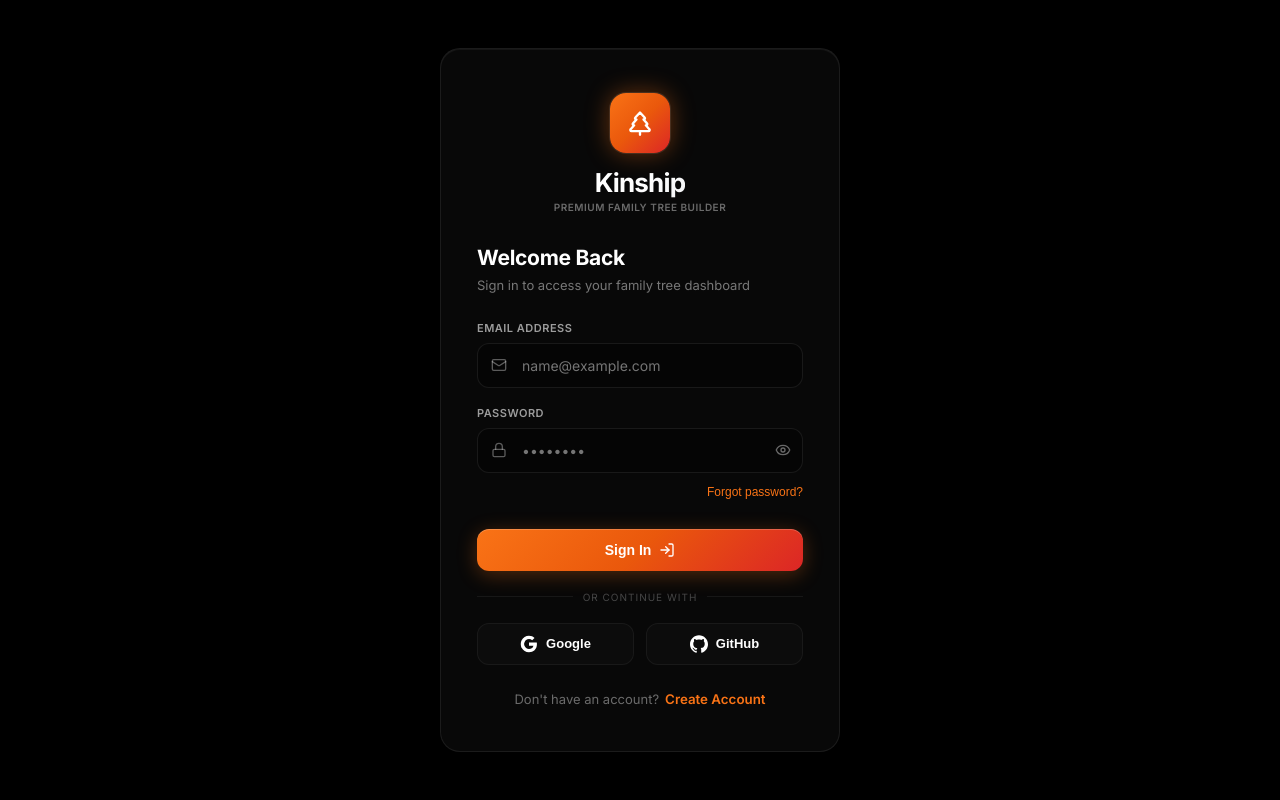
AuthScreen Component › Mocked API: Happy Path - Sign In
Type "test@example.com" into the field with test id "auth-email-input". click: [640, 365]
box: [477,343,803,388]
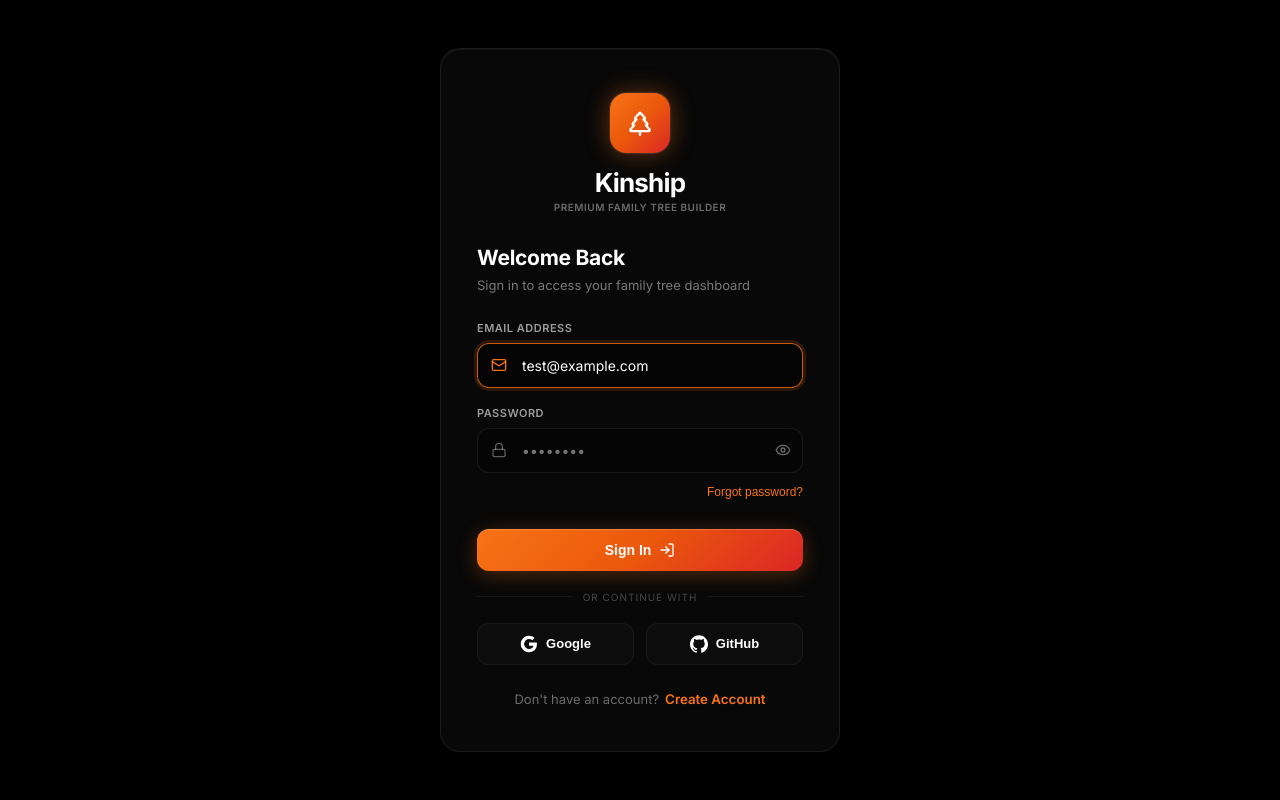
Type "password123" into the password field with test id "auth-password-input". click: [640, 450]
box: [477,428,803,473]
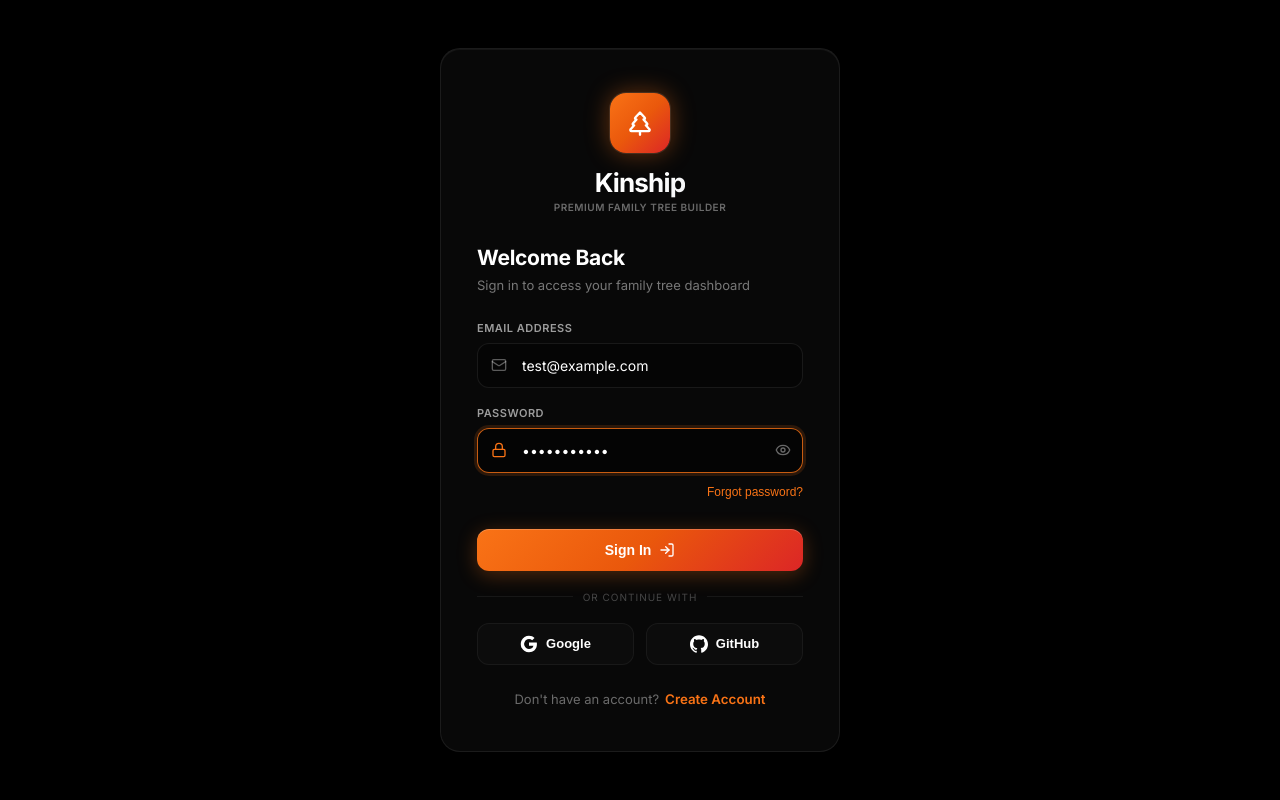
Click the button with test id "auth-submit-btn". click: [640, 550]
box: [477,529,803,571]
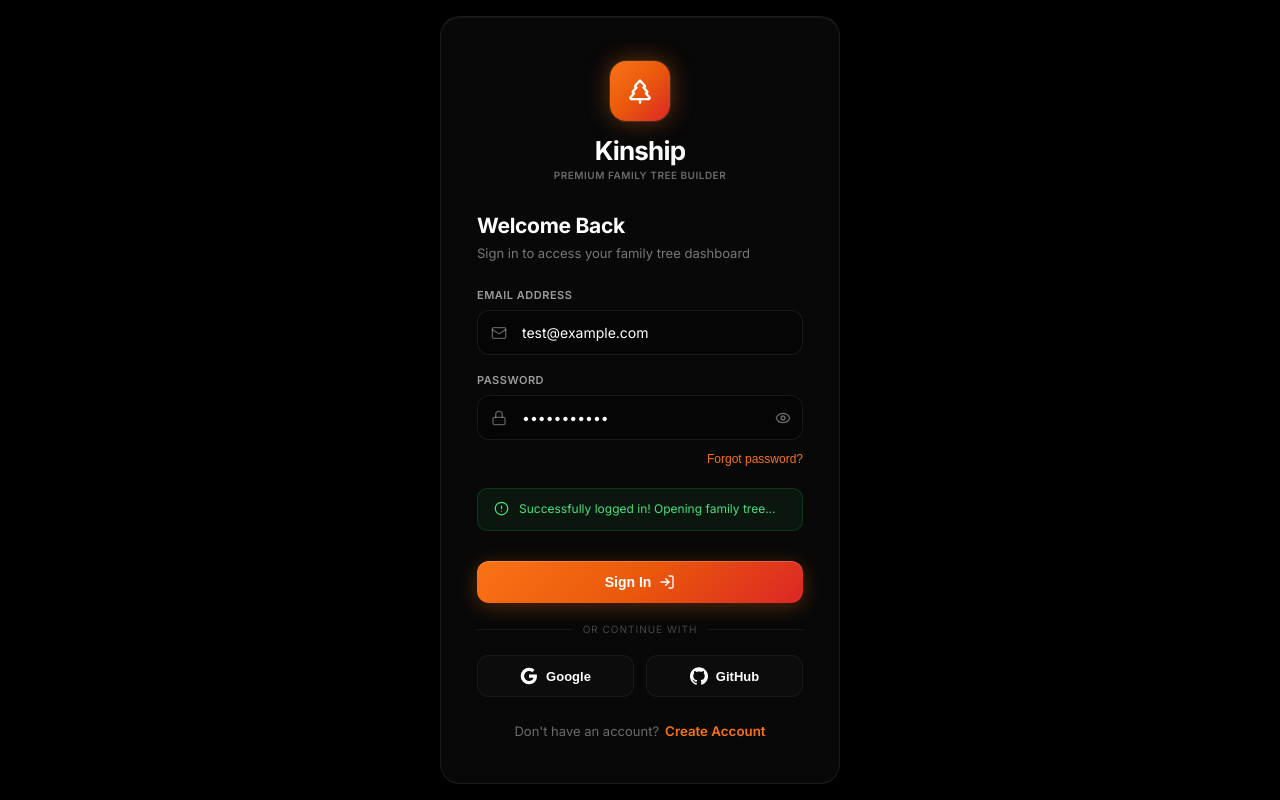
expect the text "Successfully logged in! Opening family tree..." is shown: met, box [519,501,776,518]
